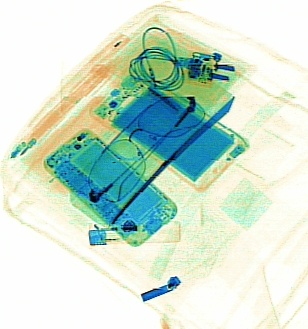lighter: (86, 216, 179, 245)
